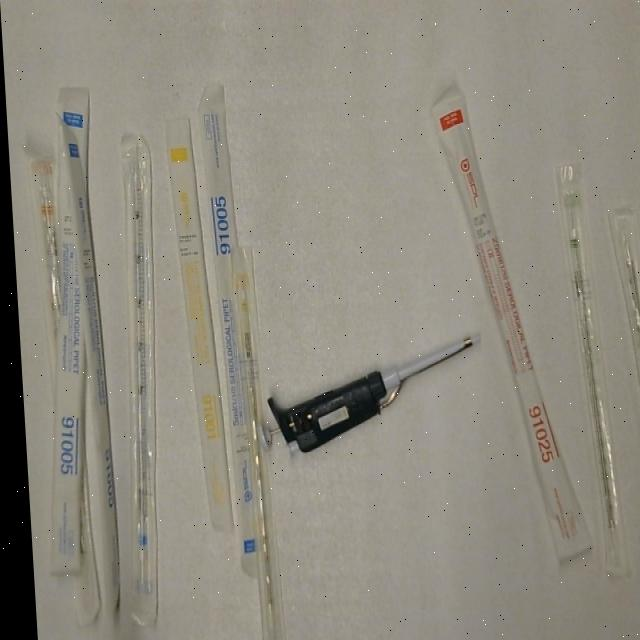Serelogical Pipet 1 mL - Sealed: (161, 115, 227, 538), (226, 236, 277, 640)
Serelogical Pipet 10 mL - Sealed: (23, 147, 74, 386)
Serelogical Pipet 2 mL - Sealed: (551, 151, 628, 588)
Serelogical Pipet 25 mL - Sealed: (425, 87, 589, 570)
Serelogical Pipet 5 mL - Sealed: (19, 83, 114, 580), (97, 132, 173, 627), (194, 83, 263, 581), (55, 115, 120, 628)
Single Channel Pipettor: (244, 328, 486, 461)
